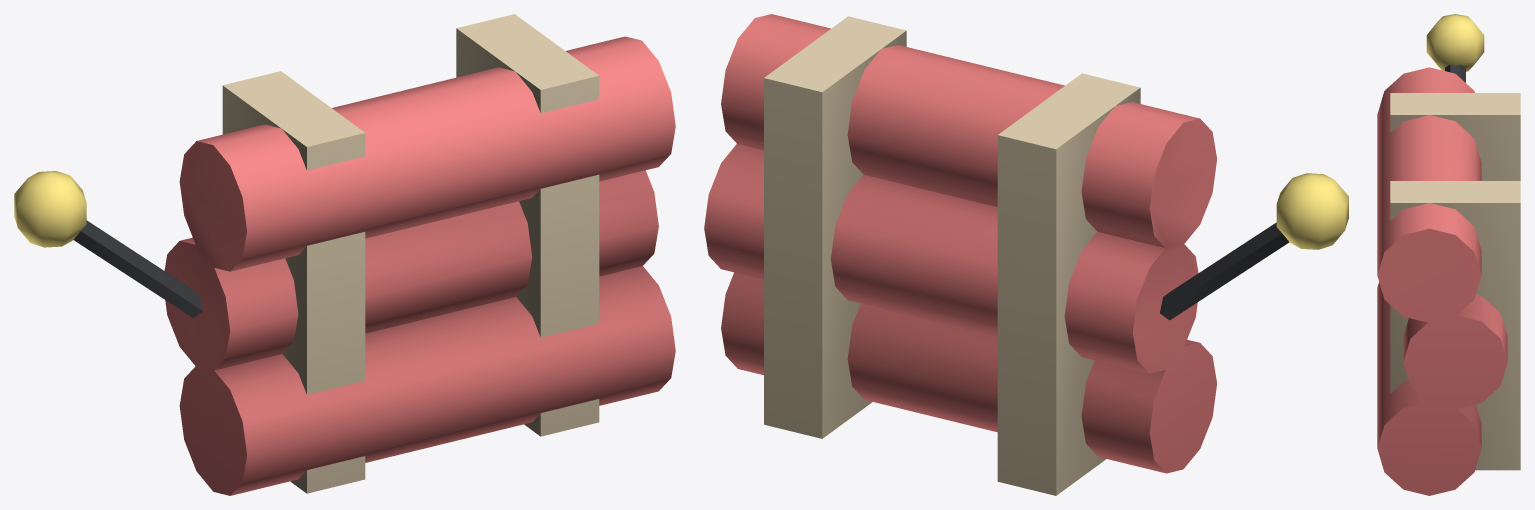
Rendered from Dynamite.fbx.
3 renders of one model, left to right at view 1: azimuth 30°, elevation 25°; view 2: azimuth 150°, elevation 25°; view 3: azimuth 270°, elevation 25°, orthographic. The views are drawn at different scales.
Visible parts, largest first — view 1: dynamite; view 2: dynamite; view 3: dynamite.
Part boxes in pixels (x1=…): dynamite: x1=14, y1=14, x2=675, y2=495; dynamite: x1=704, y1=14, x2=1348, y2=495; dynamite: x1=1377, y1=14, x2=1520, y2=495.
Size of the model in its own units: 0.6233 by 0.34 by 0.165.
